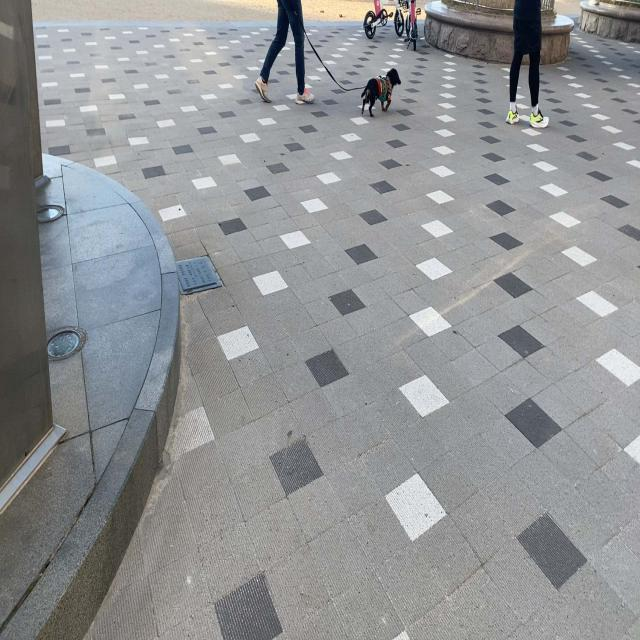Leashed_Dog: (277, 0, 401, 117)
